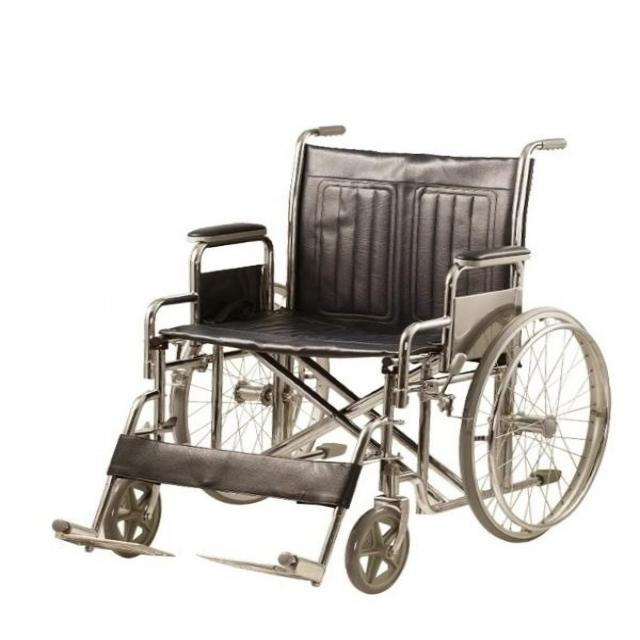wheelchair: (41, 116, 626, 604)
